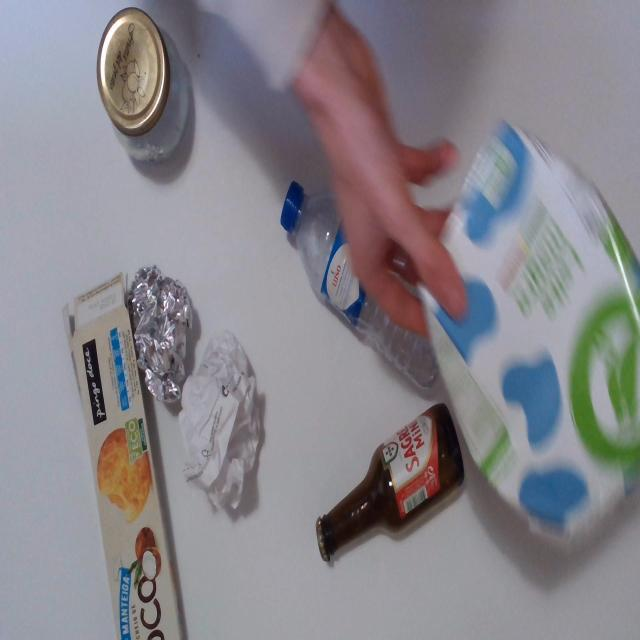Cardboard: (67, 277, 187, 639)
Glass: (316, 402, 461, 560)
Paper: (180, 330, 266, 522)
Plastic: (280, 187, 447, 397)
